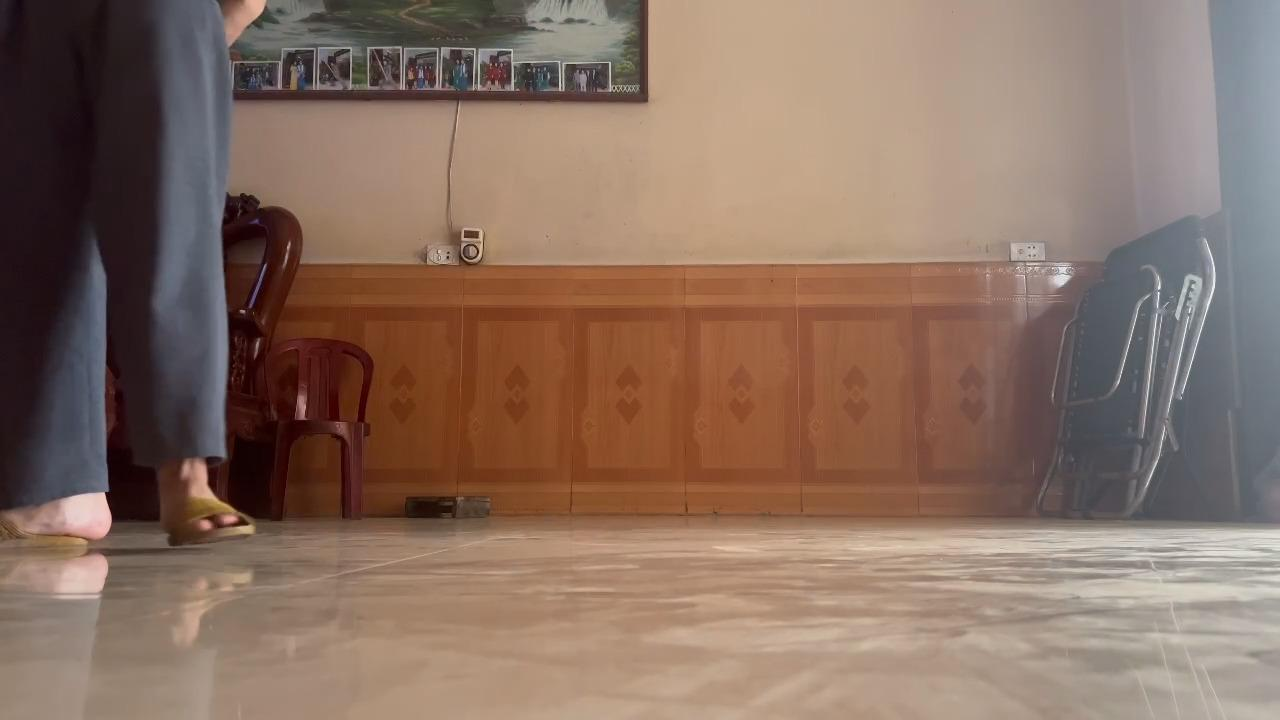no-boot: (0, 482, 129, 569), (143, 477, 258, 561)
